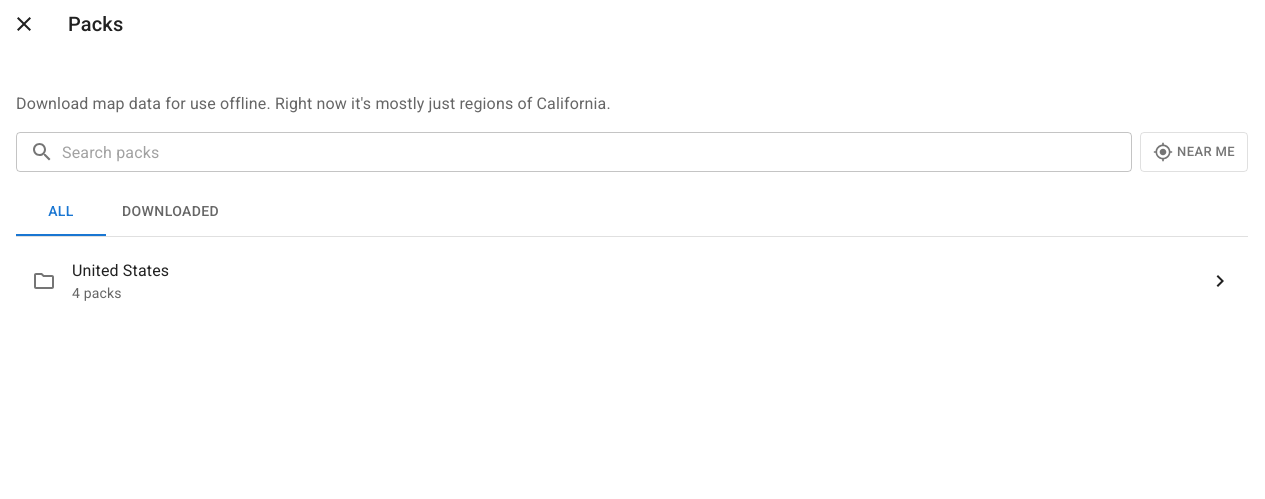
Packs › near me › brings back the hierarchy when turned off
Check: the text "United States" is shown, box x1=72 y1=261 x2=169 y2=280
What coordinates should you click on to do the following:
click the button "Near me"
I would click on:
 (1194, 152)
Its box is x1=1140 y1=132 x2=1248 y2=172.
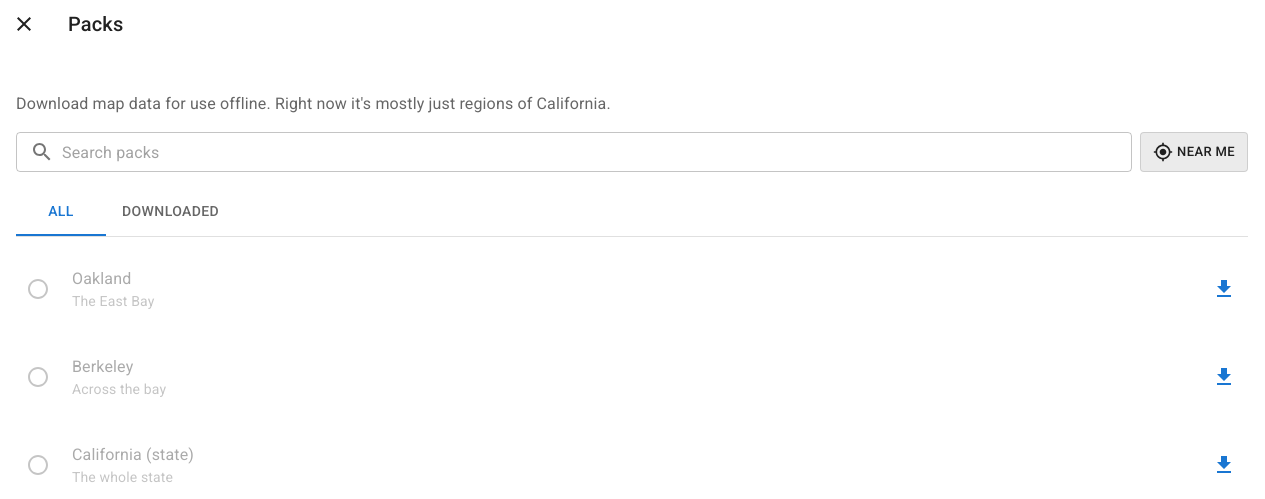
Check: the text "Oakland" is shown, box x1=72 y1=269 x2=131 y2=288
What coordinates should you click on to do the following:
click the button "Near me"
I would click on:
 (1194, 152)
Its box is x1=1140 y1=132 x2=1248 y2=172.
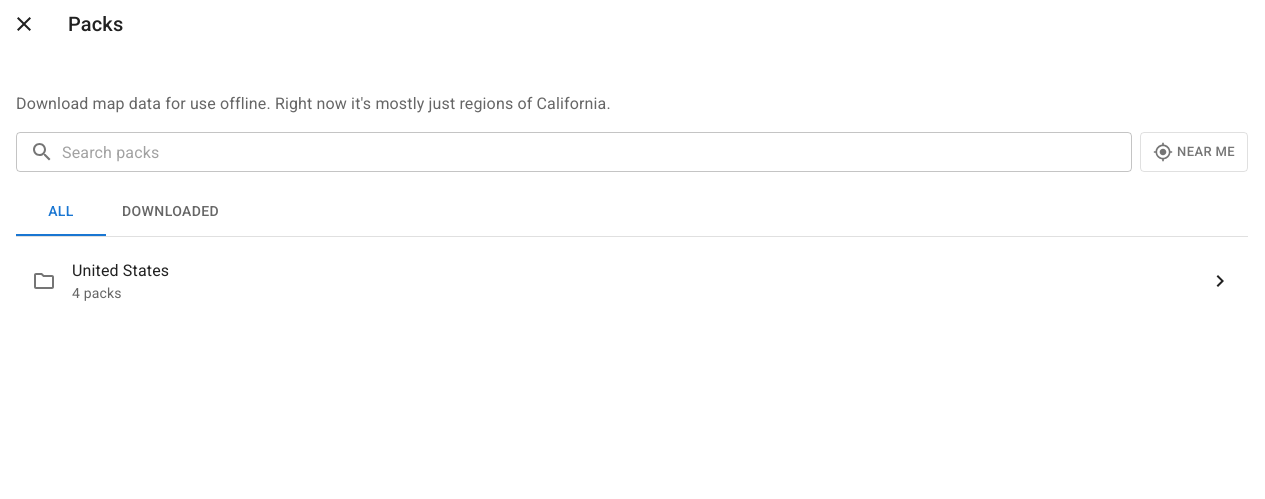
Check: the text "United States" is shown, box x1=72 y1=261 x2=169 y2=280
Check: the button "Oakland" is gone
